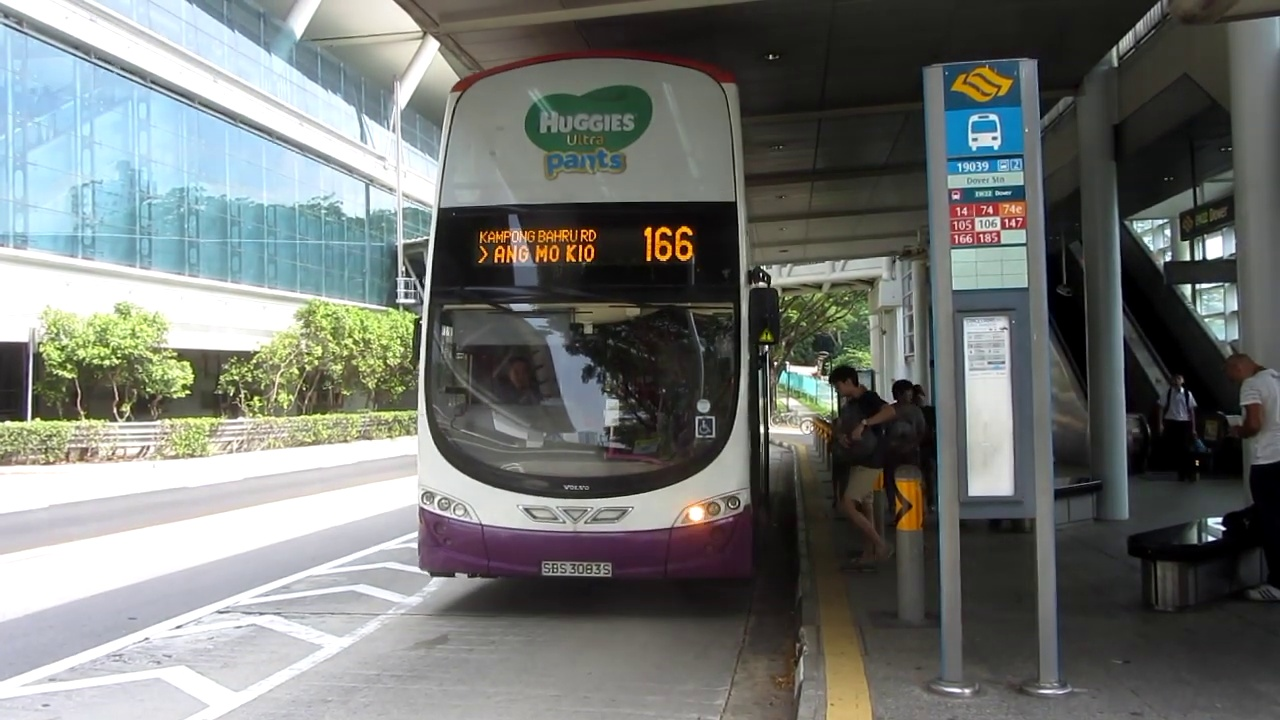bus panel: (472, 224, 698, 269)
